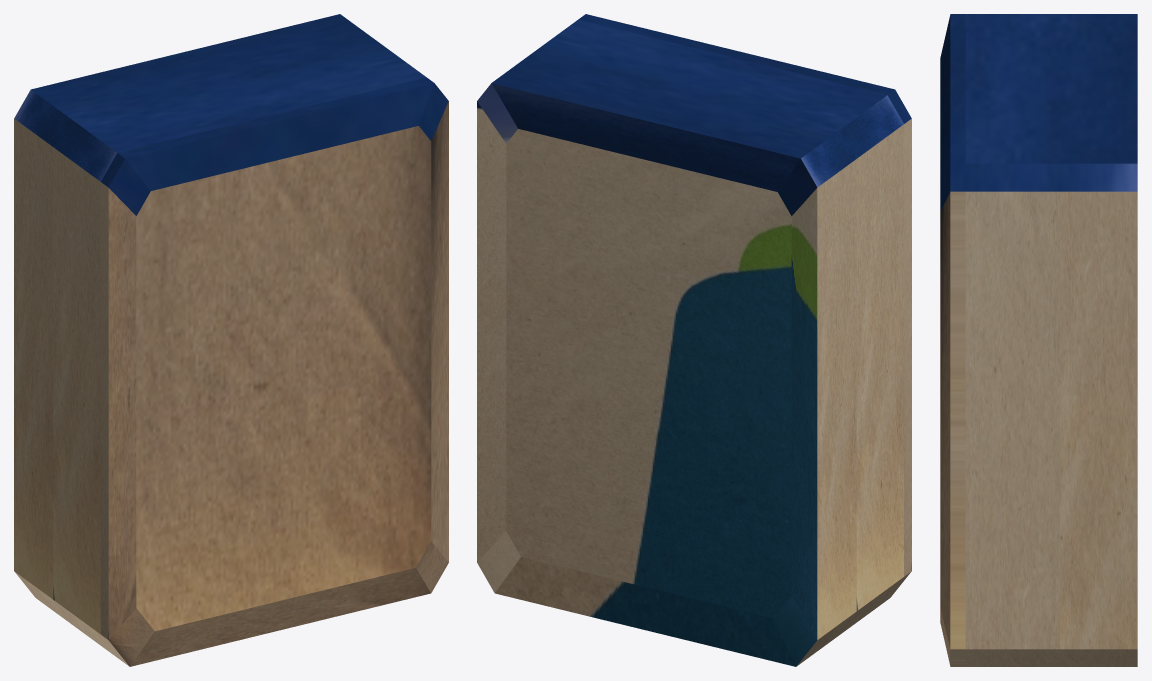
The model's file is SacoDeCimento.fbx.
3 views of the same model, side by side, from view 1: azimuth 30°, elevation 25°; view 2: azimuth 150°, elevation 25°; view 3: azimuth 270°, elevation 25° (orthographic).
Visible parts, largest first — view 1: Cube; view 2: Cube; view 3: Cube.
Part boxes in pixels (x1=…): Cube: x1=14, y1=14, x2=448, y2=666; Cube: x1=477, y1=14, x2=911, y2=666; Cube: x1=940, y1=14, x2=1137, y2=666.
Size of the model in its own units: 363 by 519 by 184.
